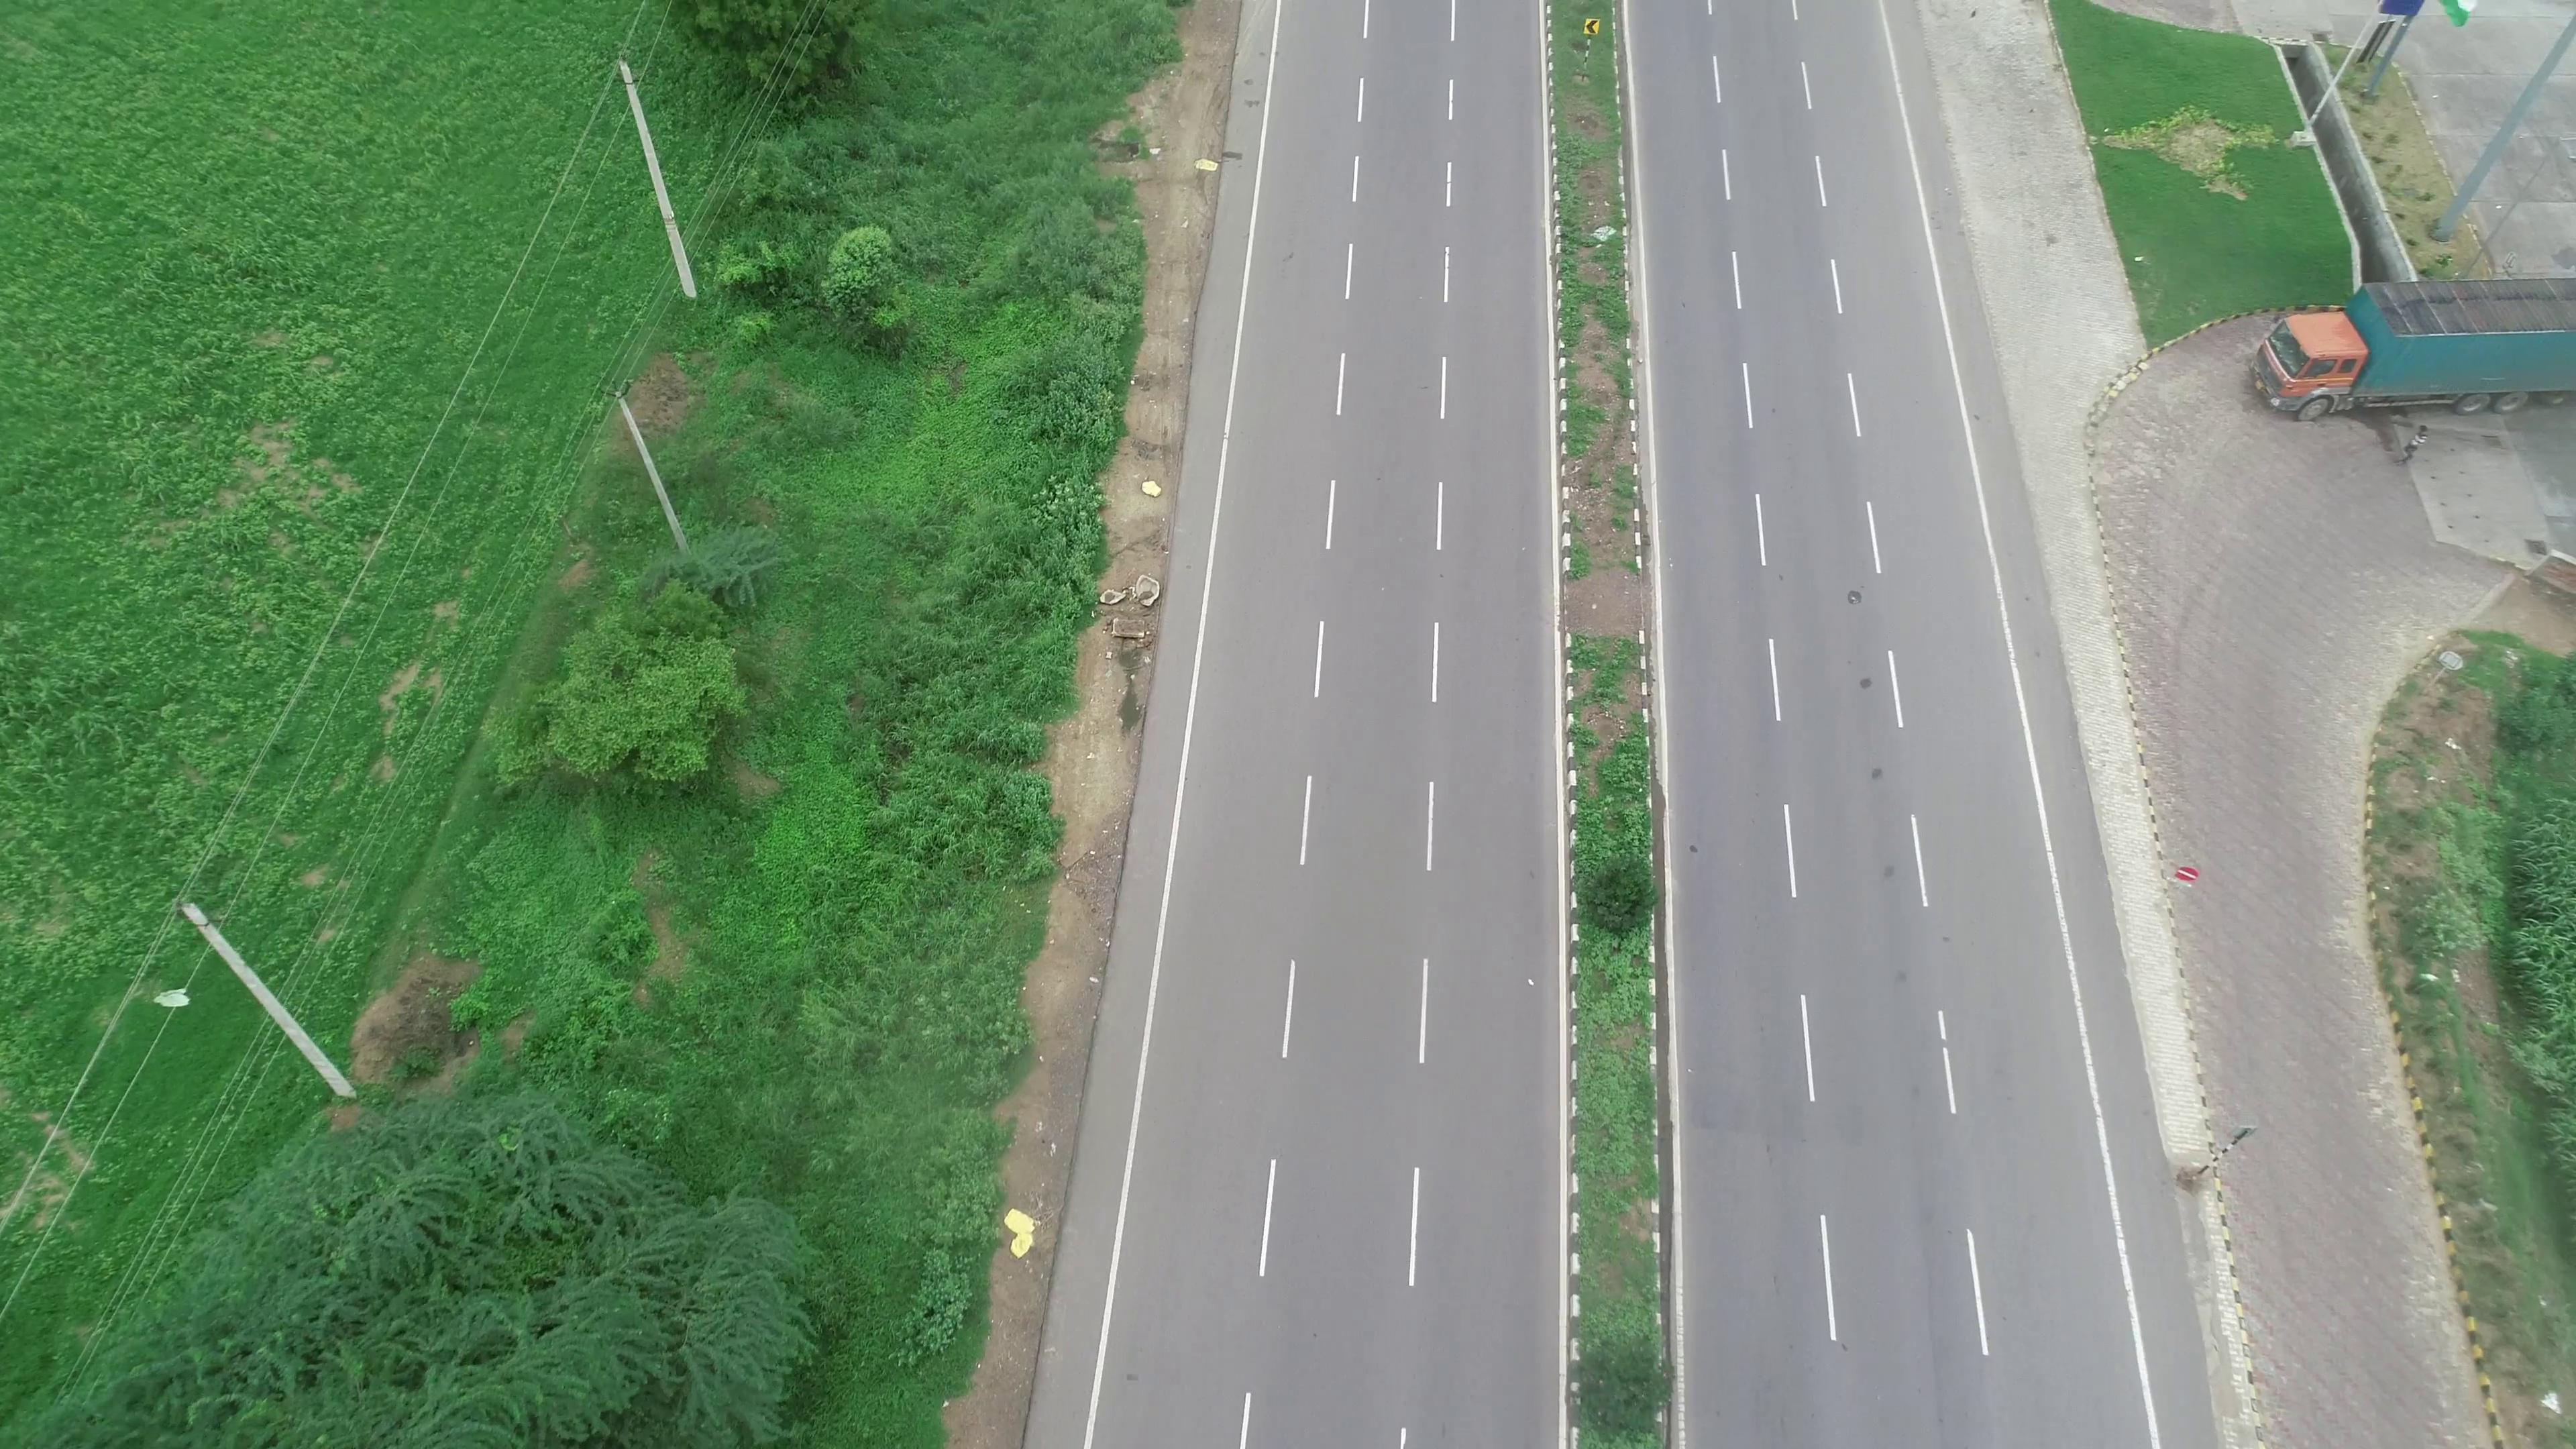Potholes: (1828, 563, 1881, 635)
